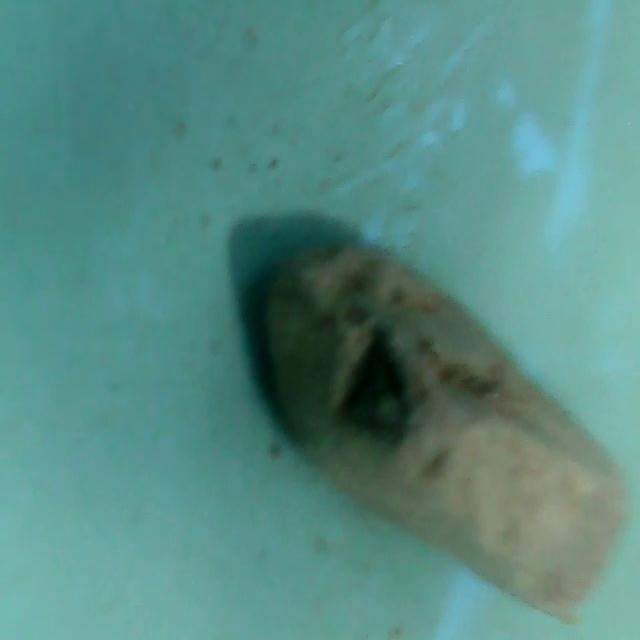rock: (246, 233, 638, 640)
